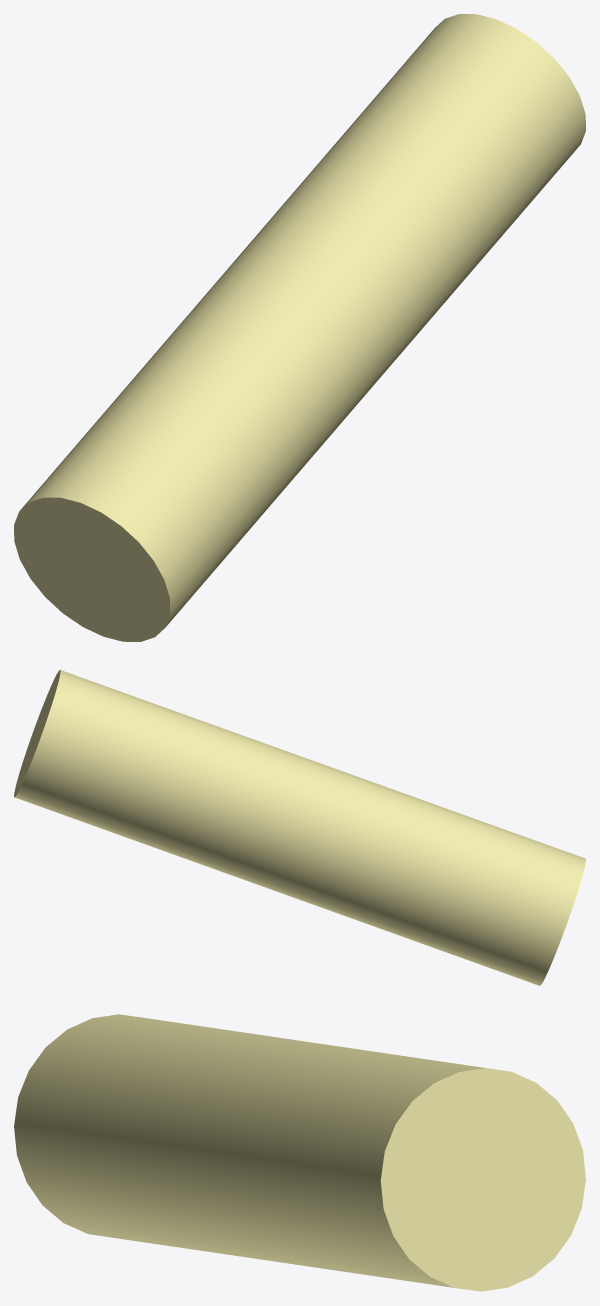
The model's file is original-5.obj.
3 views of the same model, one above another, from view 1: azimuth 30°, elevation 25°; view 2: azimuth 150°, elevation 25°; view 3: azimuth 270°, elevation 25° (orthographic). The views are drawn at different scales.
Parts seen in each view (by area): view 1: Component_1_3/Component_1/mesh2/mesh2-geometry#mesh2-geometry; view 2: Component_1_3/Component_1/mesh2/mesh2-geometry#mesh2-geometry; view 3: Component_1_3/Component_1/mesh2/mesh2-geometry#mesh2-geometry.
Boxes of the visible parts, bbox=[...] form: Component_1_3/Component_1/mesh2/mesh2-geometry#mesh2-geometry: bbox=[14, 14, 585, 641]; Component_1_3/Component_1/mesh2/mesh2-geometry#mesh2-geometry: bbox=[14, 670, 585, 985]; Component_1_3/Component_1/mesh2/mesh2-geometry#mesh2-geometry: bbox=[14, 1014, 585, 1291].
Bounding box in the file's own units: 0.1561 × 0.0895 × 0.0989.
